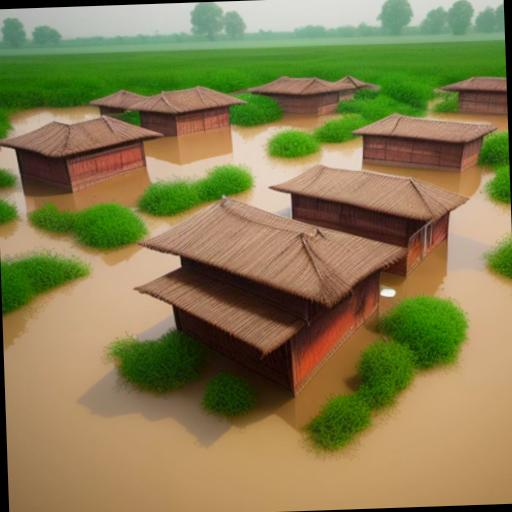flood: (0, 113, 512, 512), (25, 161, 470, 453), (7, 105, 99, 136), (139, 205, 201, 239), (426, 111, 508, 129)
house: (128, 188, 410, 408), (267, 156, 473, 284), (7, 106, 170, 218), (0, 110, 165, 195), (349, 105, 499, 179), (125, 82, 251, 138), (247, 70, 377, 120), (436, 72, 508, 120), (89, 85, 149, 118)
